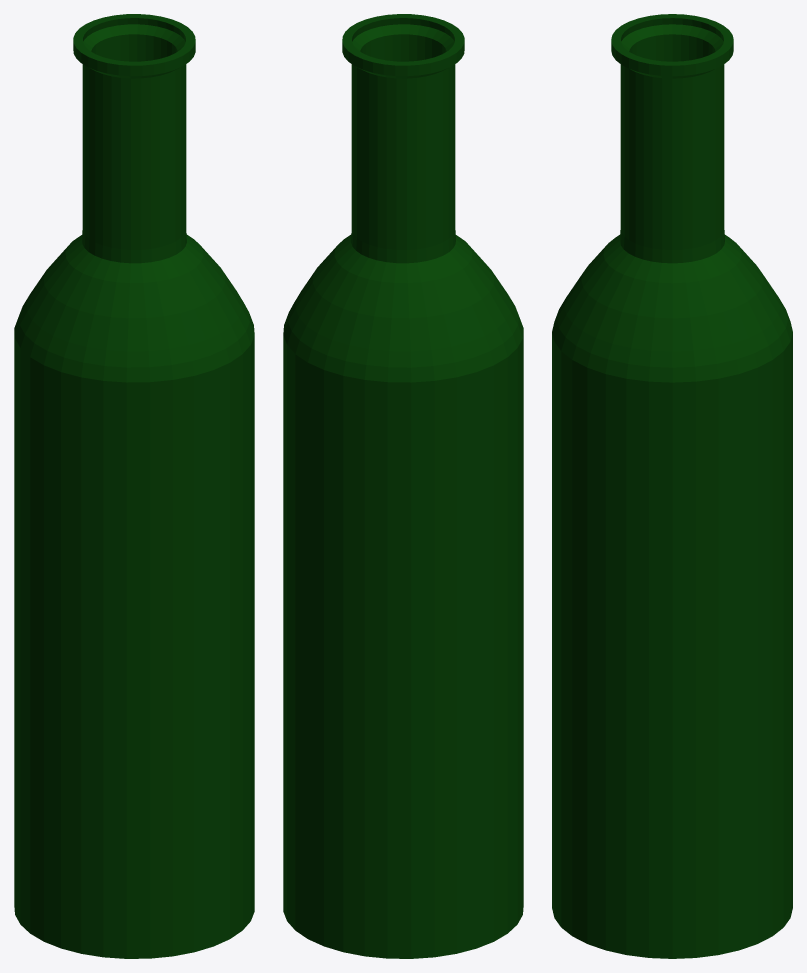
File: bottle1.glb
3 renders of one model, left to right at view 1: azimuth 30°, elevation 25°; view 2: azimuth 150°, elevation 25°; view 3: azimuth 270°, elevation 25°, orthographic.
Parts seen in each view (by area): view 1: Cylinder; view 2: Cylinder; view 3: Cylinder.
Boxes of the visible parts, x1=… form: Cylinder: x1=14, y1=14, x2=254, y2=958; Cylinder: x1=283, y1=14, x2=523, y2=958; Cylinder: x1=552, y1=14, x2=792, y2=958.
Bounding box in the file's own units: 0.1 × 0.3977 × 0.1.
